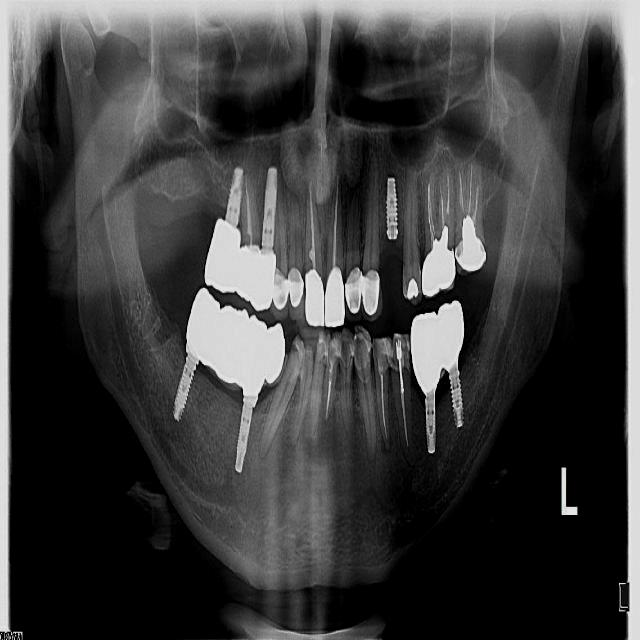Caries: (289, 344, 299, 353)
Crown: (204, 216, 241, 295), (213, 308, 250, 386), (185, 288, 221, 365), (410, 312, 441, 398), (238, 313, 268, 401), (436, 301, 464, 375), (250, 247, 275, 315), (422, 249, 454, 297), (235, 244, 258, 302), (325, 268, 346, 328), (456, 235, 486, 275), (360, 271, 383, 323), (305, 270, 325, 327), (266, 321, 284, 384), (270, 267, 289, 321), (344, 266, 362, 321), (288, 266, 304, 321)
Filling: (386, 330, 410, 372), (425, 227, 450, 262), (354, 327, 370, 377), (372, 335, 391, 375), (340, 327, 354, 373), (462, 217, 477, 252), (328, 331, 340, 365), (407, 277, 418, 301), (320, 334, 328, 359)
Implant: (173, 353, 198, 422), (235, 396, 257, 473), (261, 163, 277, 249), (224, 167, 243, 228), (449, 361, 464, 427), (387, 175, 398, 238), (426, 387, 436, 452)
Periapical lesion: (380, 433, 394, 455), (366, 446, 378, 464), (234, 465, 245, 475)
Root Canal Treatment: (309, 188, 317, 270), (332, 173, 338, 269), (400, 391, 409, 447), (246, 175, 253, 245), (457, 167, 466, 218), (428, 183, 434, 249), (380, 372, 386, 437), (471, 182, 479, 226), (467, 161, 473, 214), (327, 366, 332, 418), (439, 178, 444, 229), (447, 177, 449, 214)
